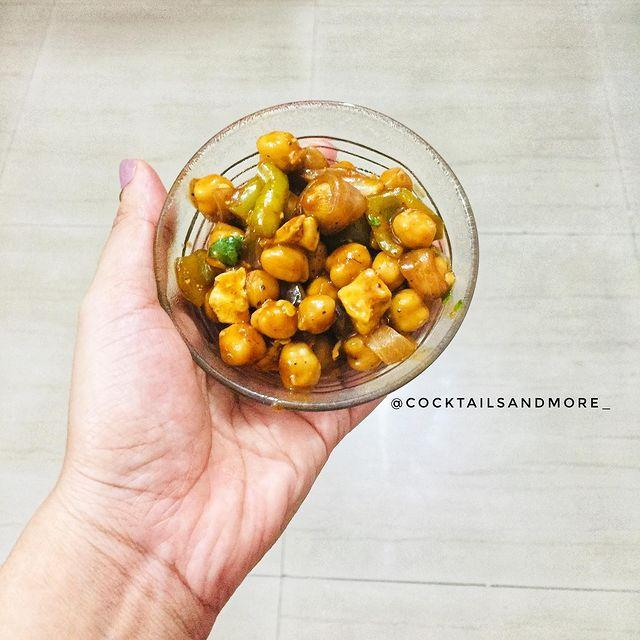Chole: (161, 128, 441, 398)
